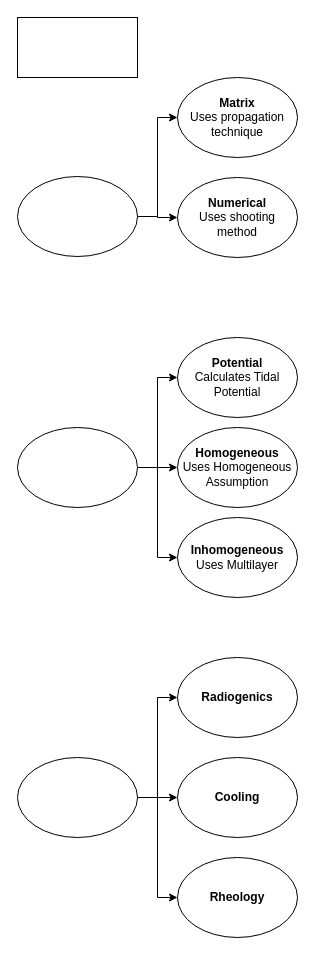
This 315x955 diagram has some shape labels left out. The centre of each missing label's shape, as x and y in pixels:
"Radial Solver Calculates Love Numbers" belongs at point 77,216.
"Thermal All code related to thermal dynamics" belongs at point 77,797.
"Tides Calculates Tidal Dissipation" belongs at point 77,467.
"Top-Level Modules" belongs at point 77,47.
